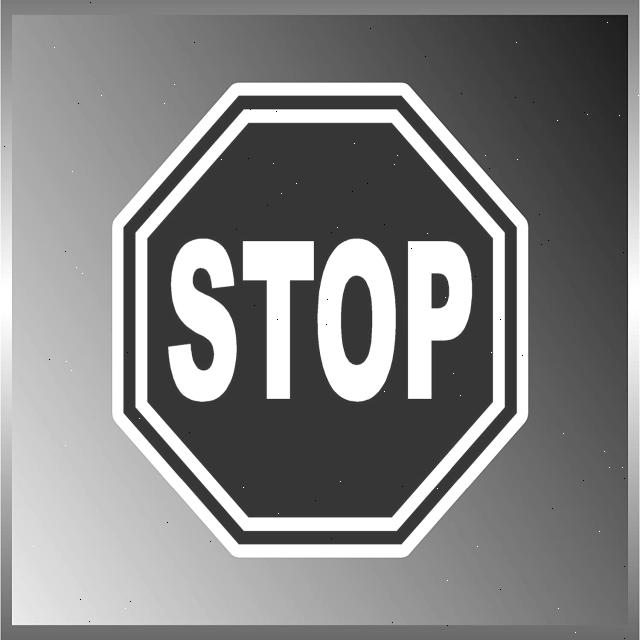Stop-sign: (77, 66, 560, 587)
